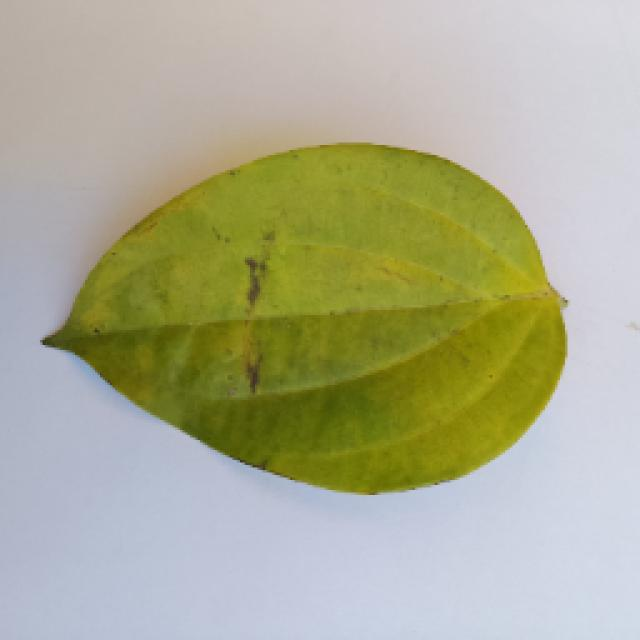slow-decline: (40, 142, 565, 492)
